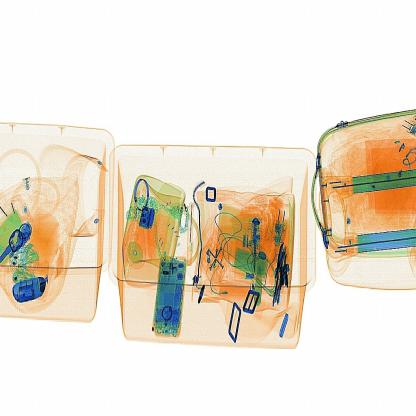pliers: (184, 198, 201, 272)
